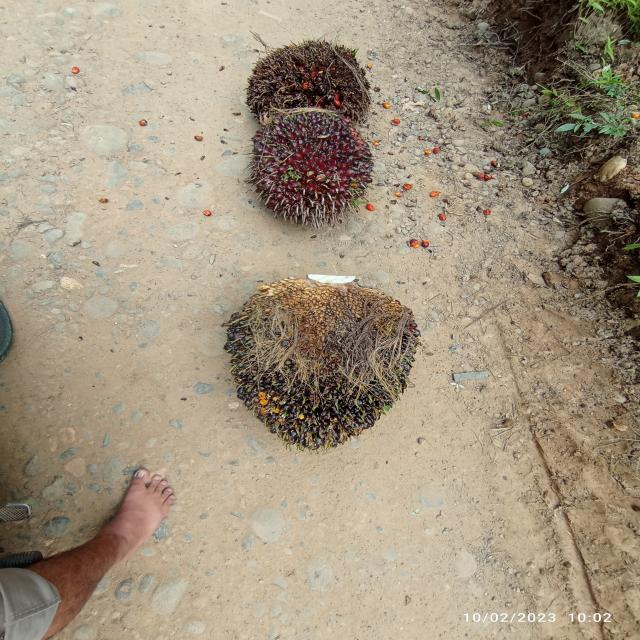fraksi 00: (192, 262, 464, 461)
fraksi 1: (243, 110, 386, 234)
fraksi 4: (208, 32, 399, 122)
